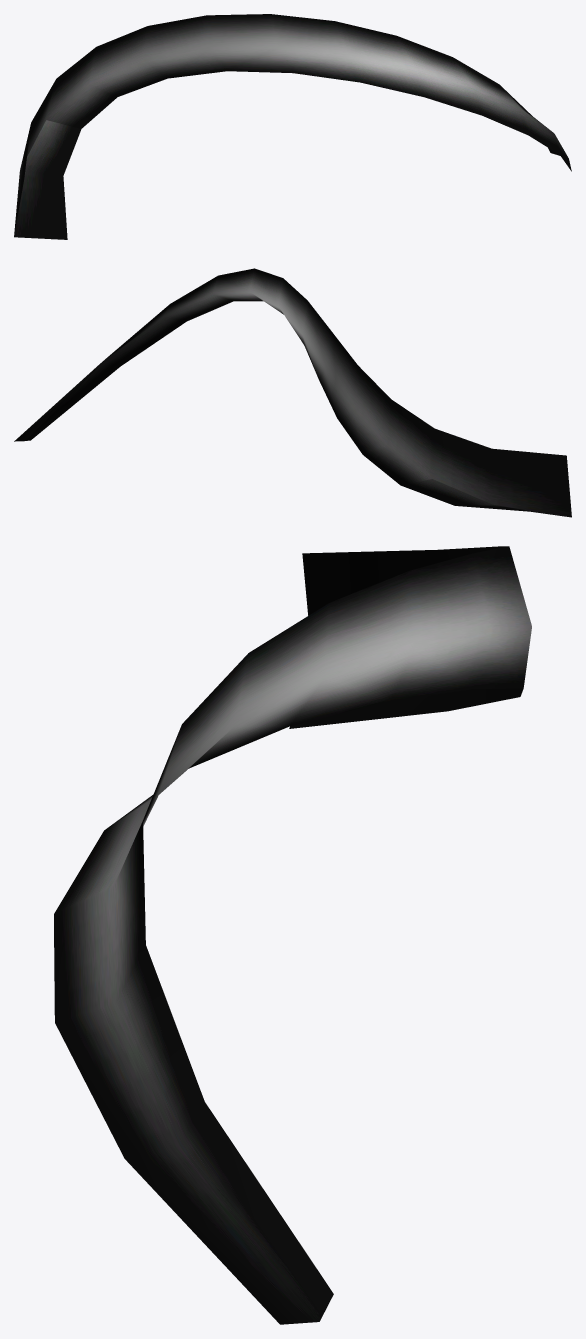
The model's file is vfx_kurp_0188.dae.
3 views of the same model, one above another, from view 1: azimuth 30°, elevation 25°; view 2: azimuth 150°, elevation 25°; view 3: azimuth 270°, elevation 25° (orthographic). The views are drawn at different scales.
Parts seen in each view (by area): view 1: vfx_kurp_0188; view 2: vfx_kurp_0188; view 3: vfx_kurp_0188.
Boxes of the visible parts, x1,y1,x2,y2 form: vfx_kurp_0188: (14, 14, 571, 239); vfx_kurp_0188: (14, 268, 571, 517); vfx_kurp_0188: (54, 546, 531, 1324).
Bounding box in the file's own units: 6.23 × 2.32 × 2.35.
Materials: 1 (1 with a texture image).
